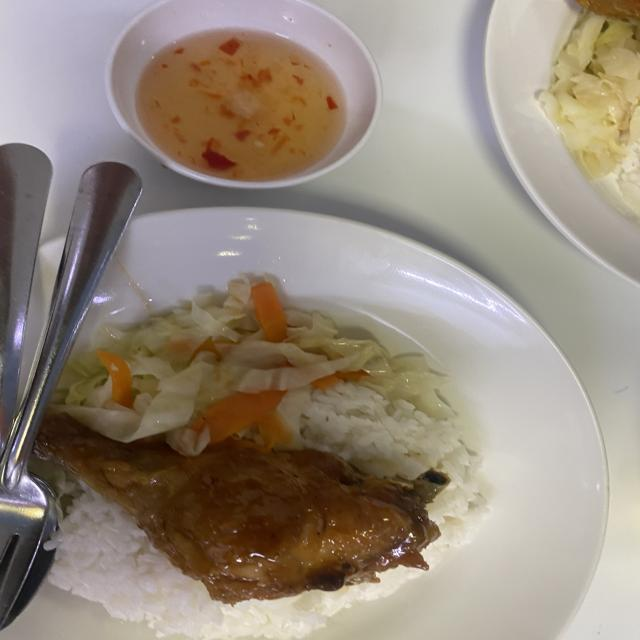com: (50, 495, 423, 640), (300, 381, 492, 570)
ga chien: (38, 417, 440, 604)
nuoc mam: (140, 33, 344, 181)
rau: (56, 276, 452, 454), (538, 11, 640, 181)
